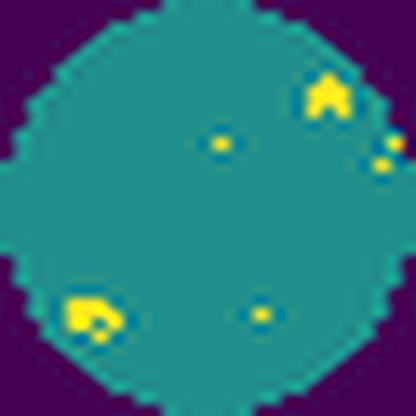Loc: (65, 293, 125, 349), (304, 68, 358, 126)
